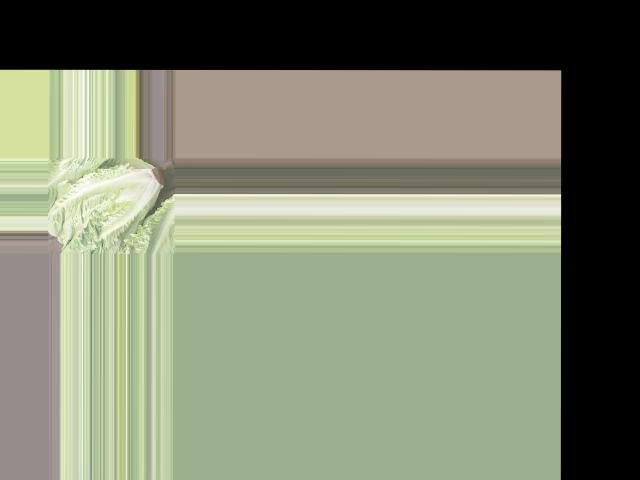lettuce: (49, 156, 169, 247)
